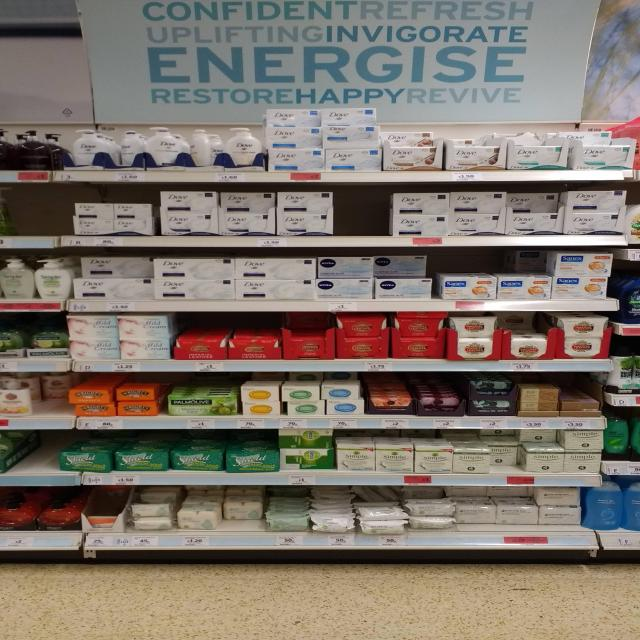empty: (335, 192, 391, 235), (11, 199, 72, 237), (23, 444, 57, 468)
